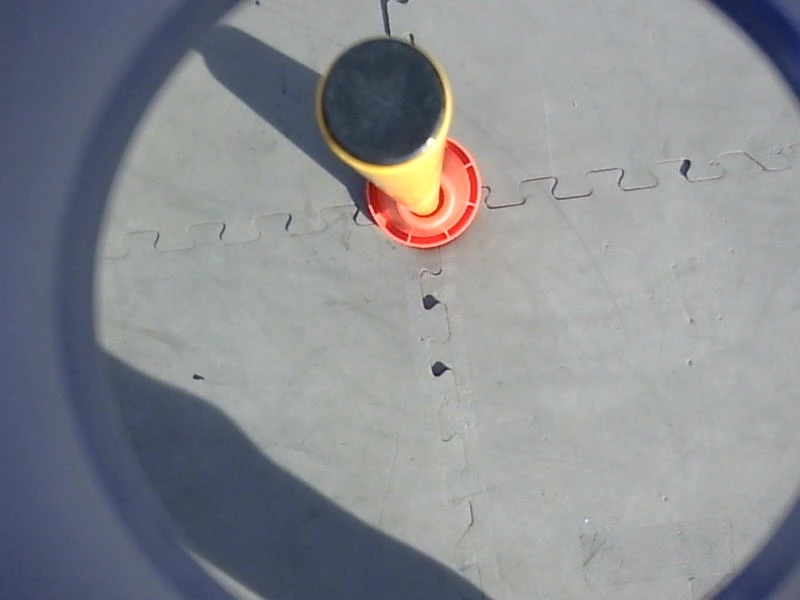tip: (311, 32, 462, 180)
